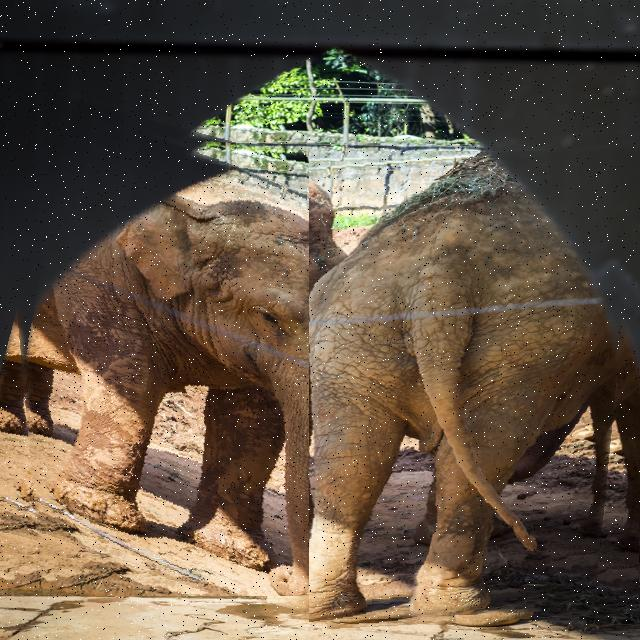elephant: (0, 119, 406, 596), (309, 151, 640, 624)
